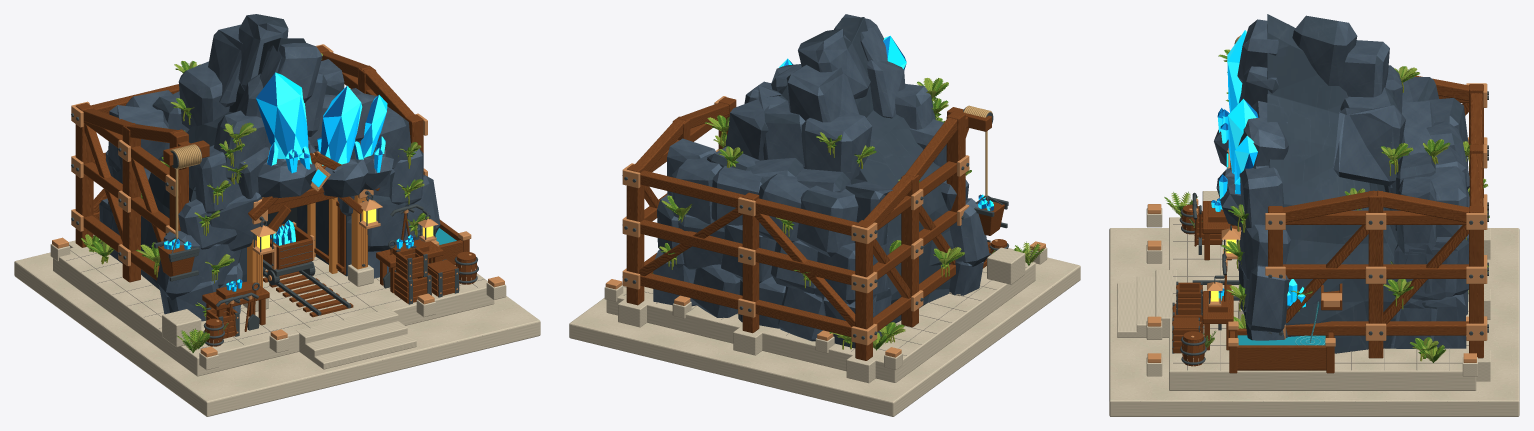
Rendered from vein-v27.glb.
3 views of the same model, side by side, from view 1: azimuth 30°, elevation 25°; view 2: azimuth 150°, elevation 25°; view 3: azimuth 270°, elevation 25° (orthographic). The views are drawn at different scales.
Visible parts, largest first — view 1: GEO-export-MAT-vein-ivory.018, GEO-export-MAT-vein-slate-1.018, GEO-export-MAT-vein-wood-edge.018, GEO-export-MAT-vein-wood.018, GEO-export-MAT-vein-slate-0.018, GEO-export-MAT-vein-iron.018, GEO-export-MAT-vein-copper.018, GEO-export-MAT-vein-crystal-2.018, GEO-export-MAT-vein-slate-2.018, GEO-export-MAT-vein-crystal-1.018, GEO-export-MAT-vein-slate-3.018, GEO-export-MAT-vein-v18-tunnel-warm-wood.012 (+8 smaller); view 2: GEO-export-MAT-vein-slate-1.018, GEO-export-MAT-vein-ivory.018, GEO-export-MAT-vein-wood-edge.018, GEO-export-MAT-vein-wood.018, GEO-export-MAT-vein-slate-0.018, GEO-export-MAT-vein-copper.018, GEO-export-MAT-vein-fern-leaf.018, GEO-export-MAT-vein-slate-2.018, GEO-export-MAT-vein-fern-tip.018, GEO-export-MAT-vein-slate-3.018, GEO-export-MAT-vein-fern-lime.018, GEO-export-MAT-vein-iron.018 (+1 smaller); view 3: GEO-export-MAT-vein-ivory.018, GEO-export-MAT-vein-slate-1.018, GEO-export-MAT-vein-slate-0.018, GEO-export-MAT-vein-wood-edge.018, GEO-export-MAT-vein-wood.018, GEO-export-MAT-vein-copper.018, GEO-export-MAT-vein-slate-2.018, GEO-export-MAT-vein-fern-leaf.018, GEO-export-MAT-vein-crystal-1.018, GEO-export-MAT-vein-slate-3.018, GEO-export-MAT-vein-iron.018, GEO-export-MAT-vein-crystal-2.018 (+5 smaller).
Part boxes in pixels (left/top/right/bottom): GEO-export-MAT-vein-ivory.018: left=14, top=240, right=540, bottom=416; GEO-export-MAT-vein-slate-1.018: left=102, top=14, right=440, bottom=321; GEO-export-MAT-vein-wood-edge.018: left=83, top=51, right=477, bottom=346; GEO-export-MAT-vein-wood.018: left=75, top=45, right=475, bottom=332; GEO-export-MAT-vein-slate-0.018: left=121, top=14, right=434, bottom=312; GEO-export-MAT-vein-iron.018: left=71, top=113, right=478, bottom=345; GEO-export-MAT-vein-copper.018: left=52, top=44, right=504, bottom=357; GEO-export-MAT-vein-crystal-2.018: left=164, top=73, right=411, bottom=286; GEO-export-MAT-vein-slate-2.018: left=99, top=30, right=436, bottom=313; GEO-export-MAT-vein-crystal-1.018: left=164, top=72, right=413, bottom=291; GEO-export-MAT-vein-slate-3.018: left=99, top=23, right=439, bottom=288; GEO-export-MAT-vein-v18-tunnel-warm-wood.012: left=247, top=164, right=367, bottom=287; GEO-export-MAT-vein-slate-1.018: left=653, top=14, right=989, bottom=348; GEO-export-MAT-vein-ivory.018: left=569, top=247, right=1080, bottom=416; GEO-export-MAT-vein-wood-edge.018: left=635, top=102, right=1007, bottom=336; GEO-export-MAT-vein-wood.018: left=626, top=97, right=1006, bottom=360; GEO-export-MAT-vein-slate-0.018: left=657, top=17, right=988, bottom=328; GEO-export-MAT-vein-copper.018: left=605, top=96, right=1045, bottom=357; GEO-export-MAT-vein-fern-leaf.018: left=661, top=78, right=1044, bottom=350; GEO-export-MAT-vein-slate-2.018: left=671, top=28, right=983, bottom=341; GEO-export-MAT-vein-fern-tip.018: left=659, top=78, right=1039, bottom=346; GEO-export-MAT-vein-slate-3.018: left=678, top=41, right=969, bottom=325; GEO-export-MAT-vein-fern-lime.018: left=652, top=78, right=1043, bottom=348; GEO-export-MAT-vein-iron.018: left=622, top=107, right=1008, bottom=339; GEO-export-MAT-vein-ivory.018: left=1109, top=191, right=1519, bottom=416; GEO-export-MAT-vein-slate-1.018: left=1214, top=19, right=1469, bottom=348; GEO-export-MAT-vein-slate-0.018: left=1214, top=14, right=1469, bottom=353; GEO-export-MAT-vein-wood-edge.018: left=1172, top=76, right=1482, bottom=369; GEO-export-MAT-vein-wood.018: left=1173, top=84, right=1483, bottom=373; GEO-export-MAT-vein-copper.018: left=1147, top=83, right=1487, bottom=362; GEO-export-MAT-vein-slate-2.018: left=1214, top=39, right=1466, bottom=348; GEO-export-MAT-vein-fern-leaf.018: left=1164, top=49, right=1489, bottom=362; GEO-export-MAT-vein-crystal-1.018: left=1214, top=30, right=1305, bottom=307; GEO-export-MAT-vein-slate-3.018: left=1218, top=16, right=1468, bottom=329; GEO-export-MAT-vein-iron.018: left=1172, top=91, right=1488, bottom=364; GEO-export-MAT-vein-crystal-2.018: left=1211, top=30, right=1304, bottom=298.
Bounding box in the file's own units: 10 × 8.28 × 10.
27 materials, 7 textured.
